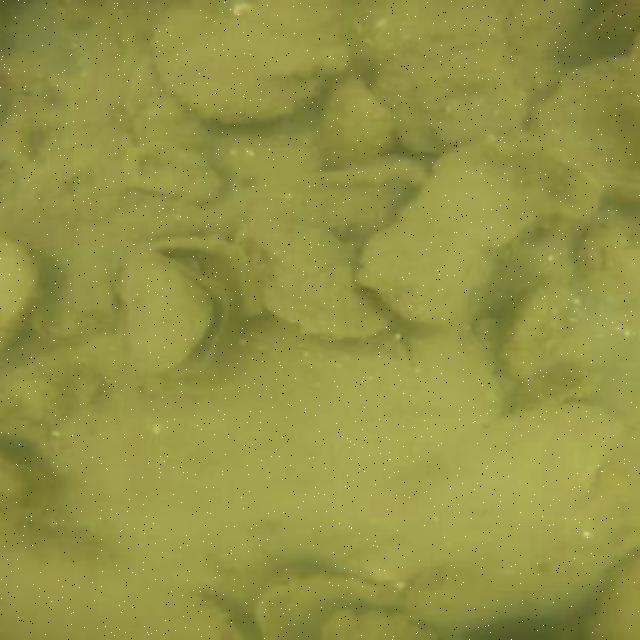Oyster-Closed: (361, 146, 579, 331), (158, 8, 348, 124), (238, 220, 388, 338), (378, 35, 526, 149), (407, 562, 613, 634), (507, 282, 579, 379), (322, 76, 391, 163), (509, 0, 593, 56), (0, 239, 33, 346), (320, 610, 434, 639), (593, 575, 640, 640), (1, 459, 27, 505)
Oyster-Open: (127, 259, 230, 375)
